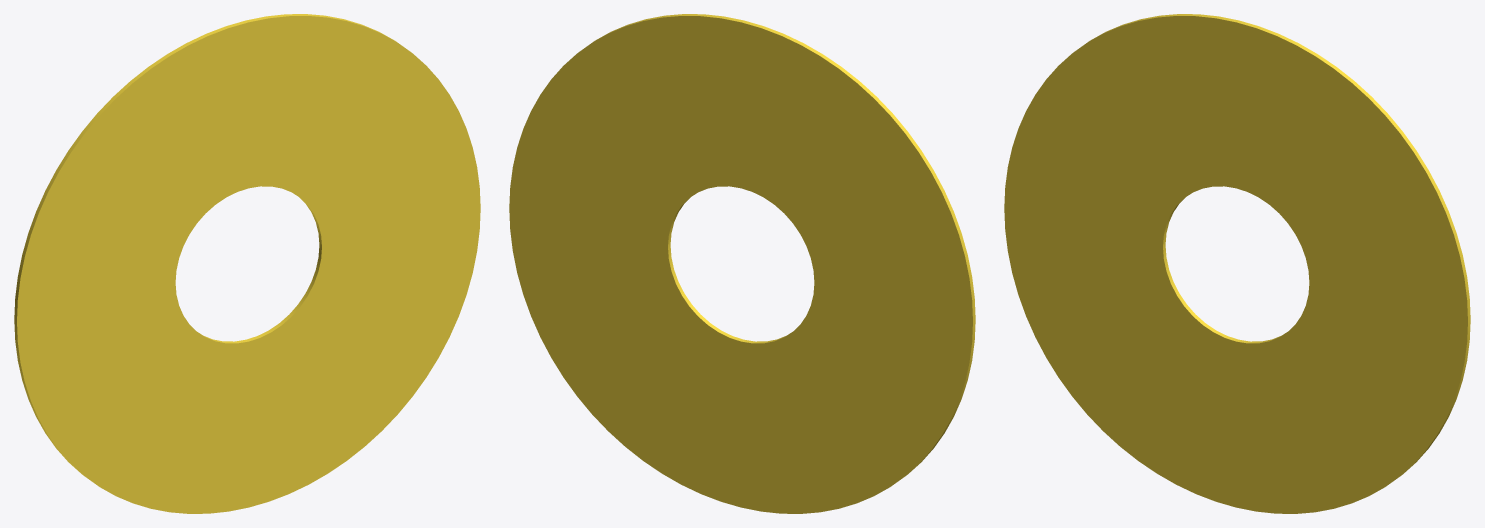
Rendered from 2019 field - HatchPanel.gltf.
3 views of the same model, side by side, from view 1: azimuth 30°, elevation 25°; view 2: azimuth 150°, elevation 25°; view 3: azimuth 330°, elevation 25° (orthographic).
Parts seen in each view (by area): view 1: HatchPanel; view 2: HatchPanel; view 3: HatchPanel.
Part boxes in pixels (left/top/right/bottom): HatchPanel: left=14, top=14, right=480, bottom=513; HatchPanel: left=509, top=14, right=975, bottom=513; HatchPanel: left=1004, top=14, right=1470, bottom=513.
Bounding box in the file's own units: 0.4826 × 0.4826 × 0.00476.
